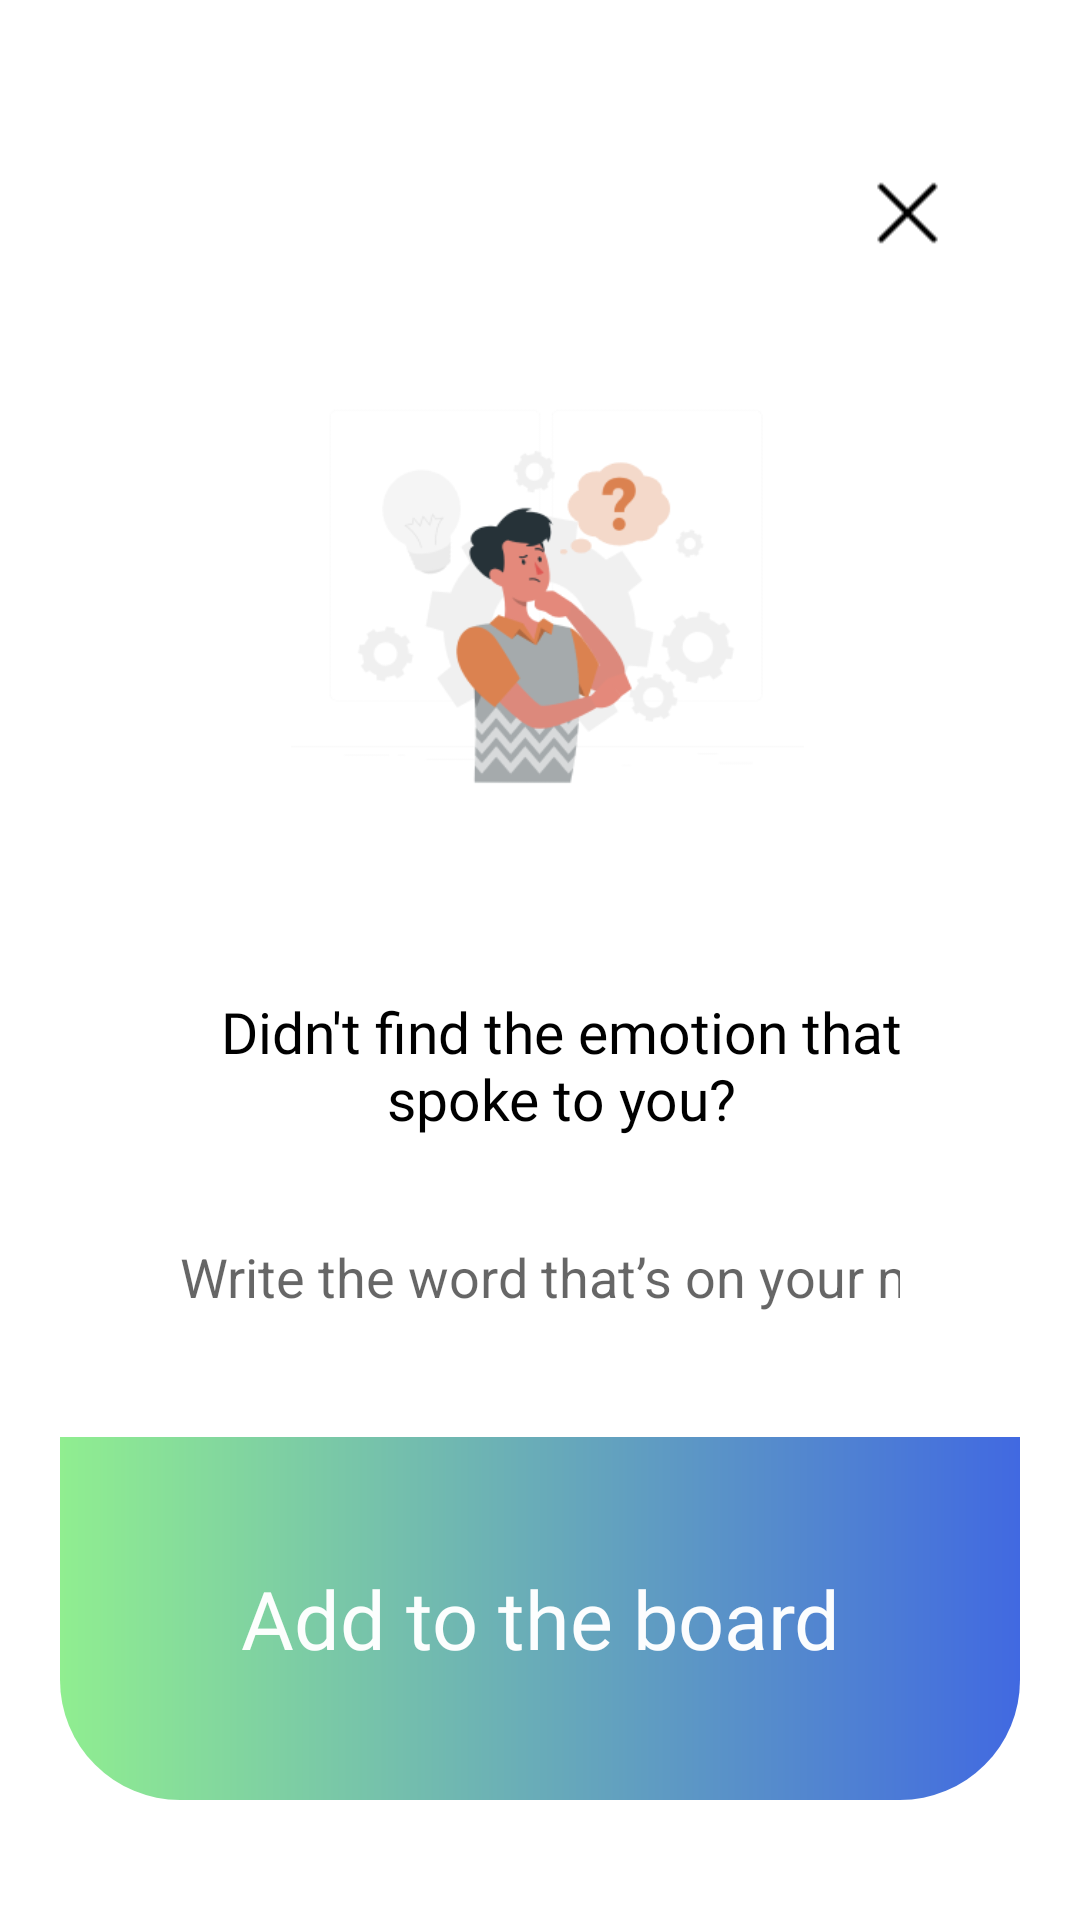

Where icons sit on this 1080 × 1920 app screen, as (x1, y1, x2, y2):
exit: (877, 182, 938, 244)
